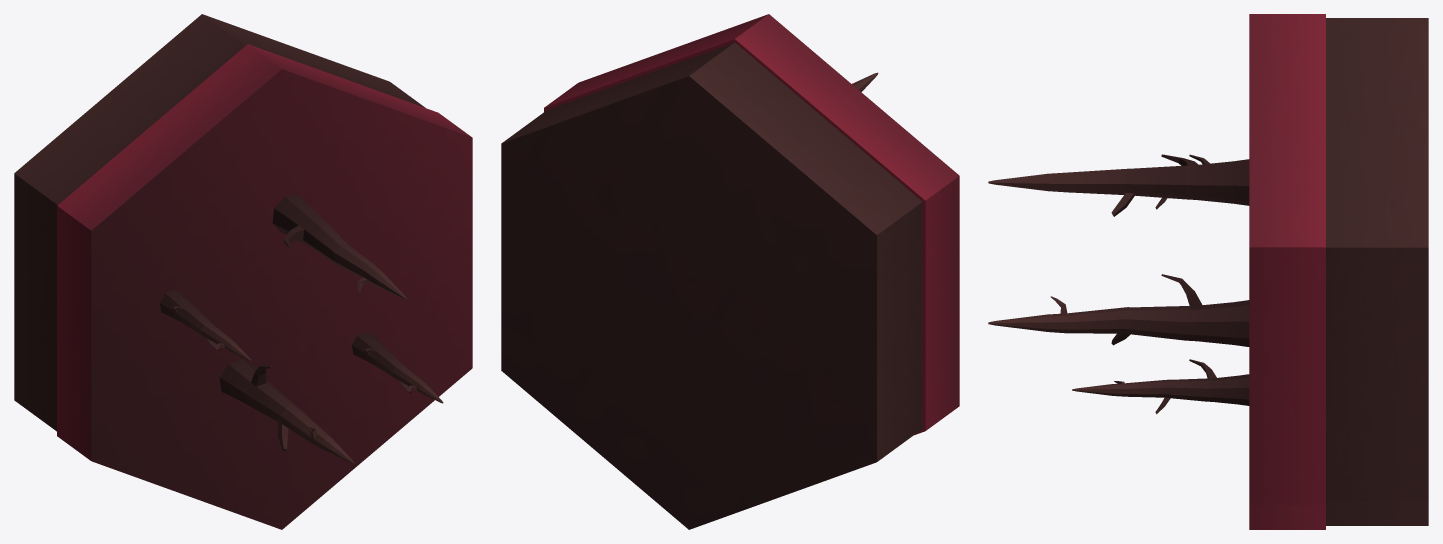
The model's file is NADELWALD_S_DEAD.fbx.
3 views of the same model, side by side, from view 1: azimuth 30°, elevation 25°; view 2: azimuth 150°, elevation 25°; view 3: azimuth 270°, elevation 25° (orthographic). The views are drawn at different scales.
Visible parts, largest first — view 1: NADELWALD_S_DEAD; view 2: NADELWALD_S_DEAD; view 3: NADELWALD_S_DEAD.
Part boxes in pixels (bbox=[...]): NADELWALD_S_DEAD: bbox=[14, 14, 472, 529]; NADELWALD_S_DEAD: bbox=[501, 14, 959, 529]; NADELWALD_S_DEAD: bbox=[988, 14, 1428, 529].
Size of the model in its own units: 172 by 199 by 154.
